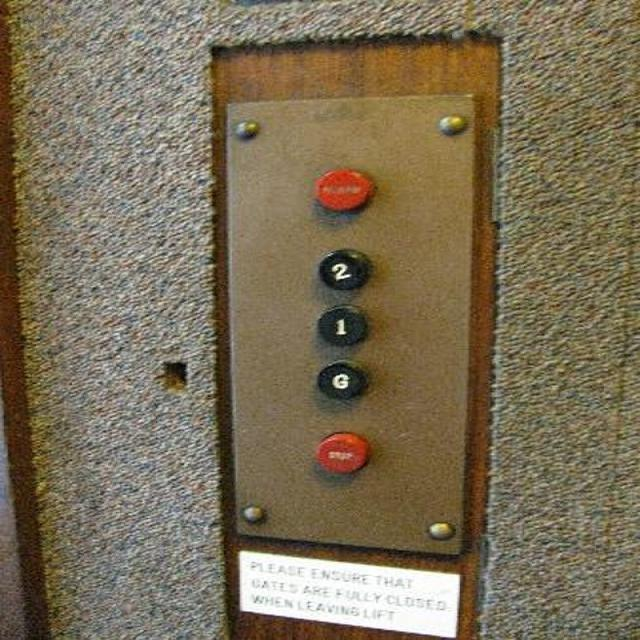1: (311, 301, 372, 348)
2: (313, 245, 375, 292)
G: (312, 357, 369, 402)
blur: (311, 164, 377, 216), (311, 427, 373, 476)
